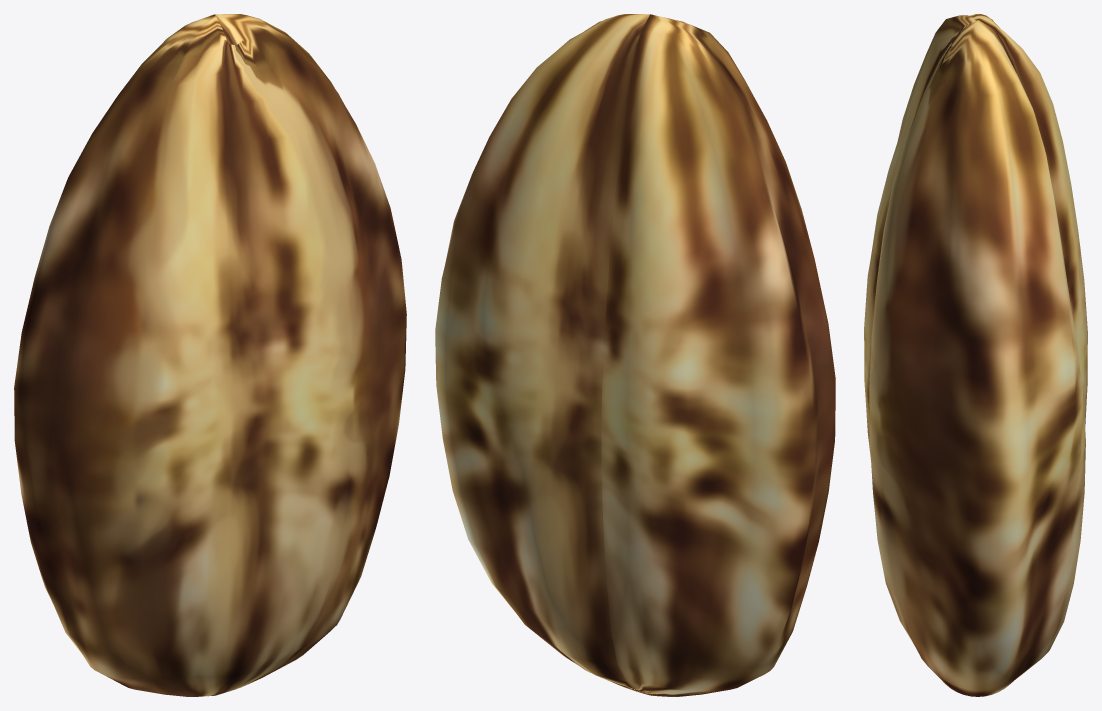
The model's file is Carrot_seed.fbx.
The picture shows the model from 3 angles, left to right: view 1: azimuth 30°, elevation 25°; view 2: azimuth 150°, elevation 25°; view 3: azimuth 270°, elevation 25°; orthographic projection. The views are drawn at different scales.
Visible parts, largest first — view 1: pSphere2; view 2: pSphere2; view 3: pSphere2.
Boxes of the visible parts, x1,y1,x2,y2 form: pSphere2: [14, 14, 406, 696]; pSphere2: [435, 14, 835, 696]; pSphere2: [864, 14, 1087, 696].
Bounding box in the file's own units: 1.91 × 3.28 × 1.
